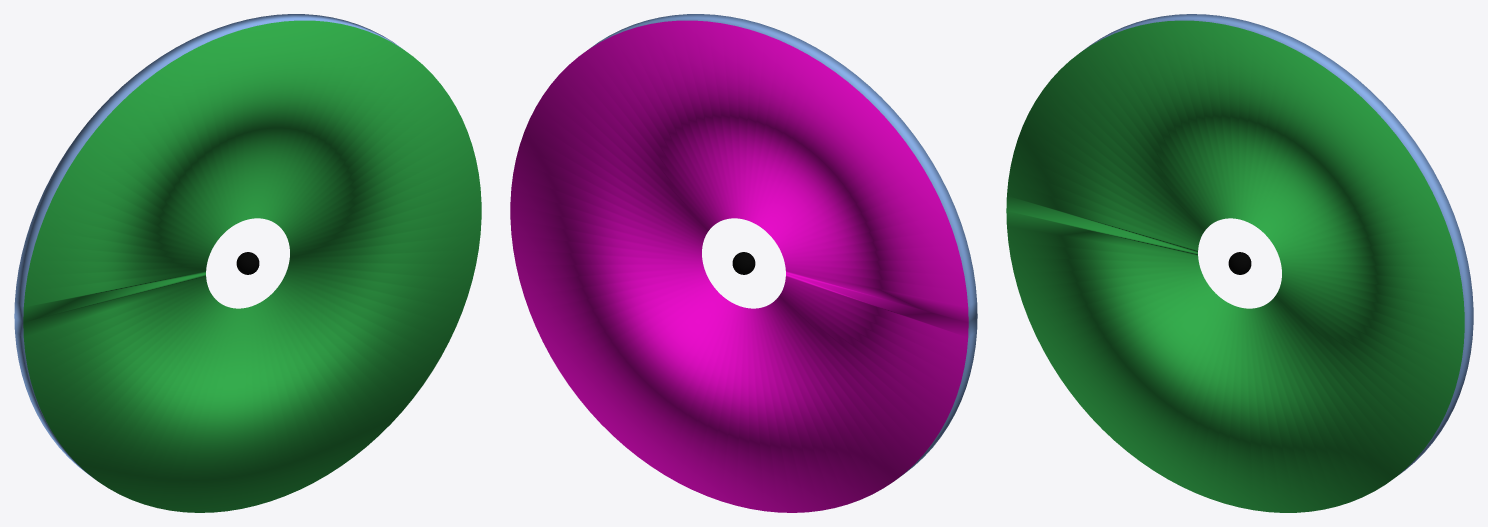
Rendered from PIKACHU.fbx.
3 renders of one model, left to right at view 1: azimuth 30°, elevation 25°; view 2: azimuth 150°, elevation 25°; view 3: azimuth 330°, elevation 25°, orthographic.
Parts seen in each view (by area): view 1: Cube; view 2: Cube; view 3: Cube.
Boxes of the visible parts, bbox=[...] form: Cube: bbox=[14, 14, 481, 512]; Cube: bbox=[510, 14, 977, 512]; Cube: bbox=[1006, 14, 1473, 512].
Size of the model in its own units: 45.56 by 45.57 by 1.97.
